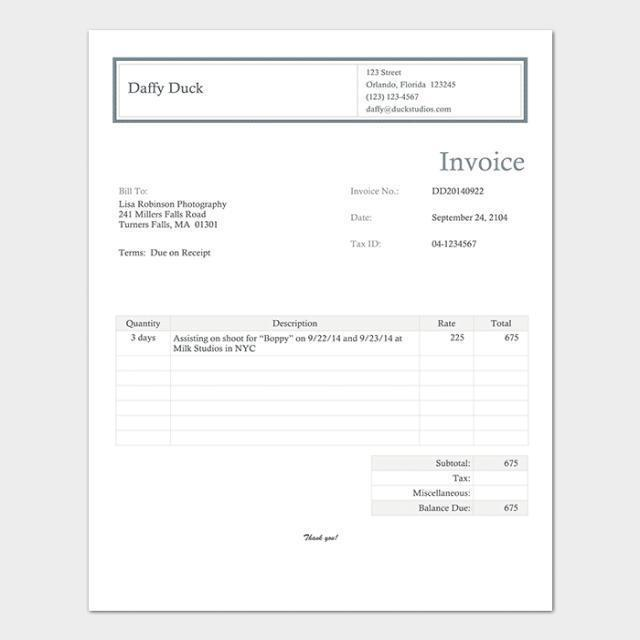paragraph: (347, 182, 511, 254), (401, 452, 533, 516), (115, 181, 234, 233), (362, 66, 460, 117), (435, 145, 528, 175), (124, 74, 208, 101), (115, 244, 219, 262), (300, 527, 345, 547)
table: (116, 314, 526, 367)
